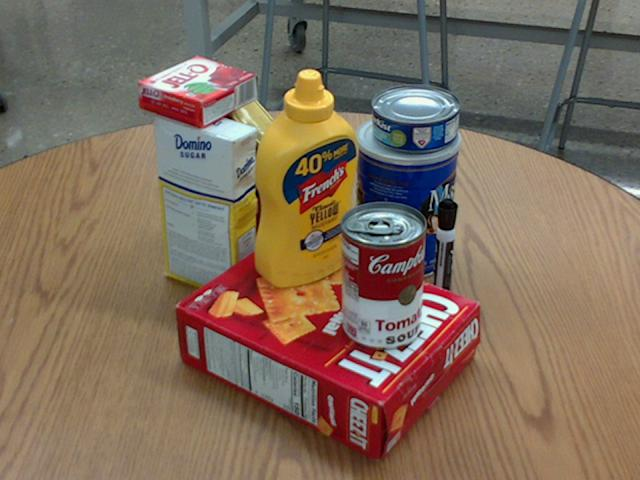cracker_box: (178, 228, 480, 460)
gelatin_box: (138, 56, 257, 127)
large_marker: (430, 198, 456, 313)
master_chef_can: (353, 112, 462, 279)
mug: (196, 155, 286, 260)
mustard_bottle: (253, 68, 357, 287)
potted_meat_can: (175, 92, 302, 217)
sugar_box: (153, 104, 257, 302)
tomato_soup_can: (341, 201, 427, 349)
tuna_fish_can: (372, 85, 461, 152)
